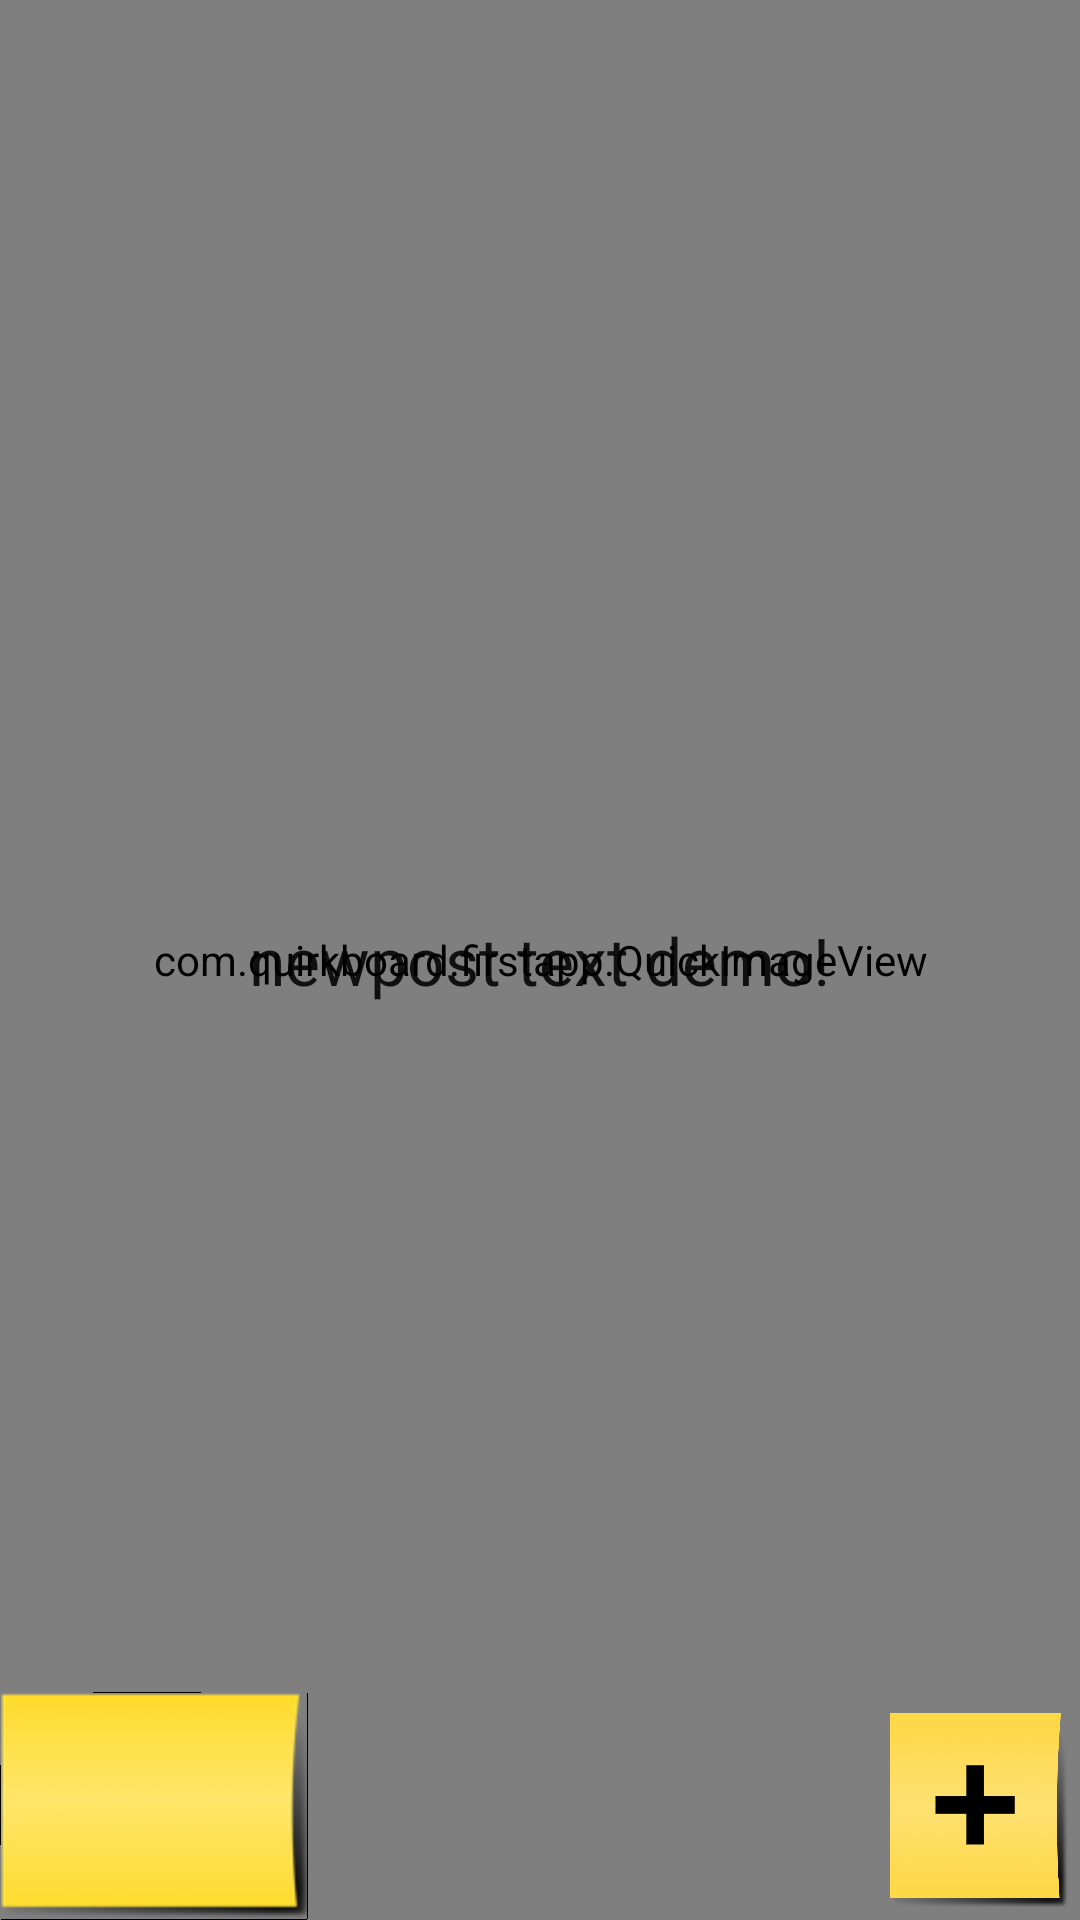

Named icons in this screenshot (1080×1920) and their centers, point (x, y):
posticon: point (978, 1809)
stickyimage: point (154, 1806)
